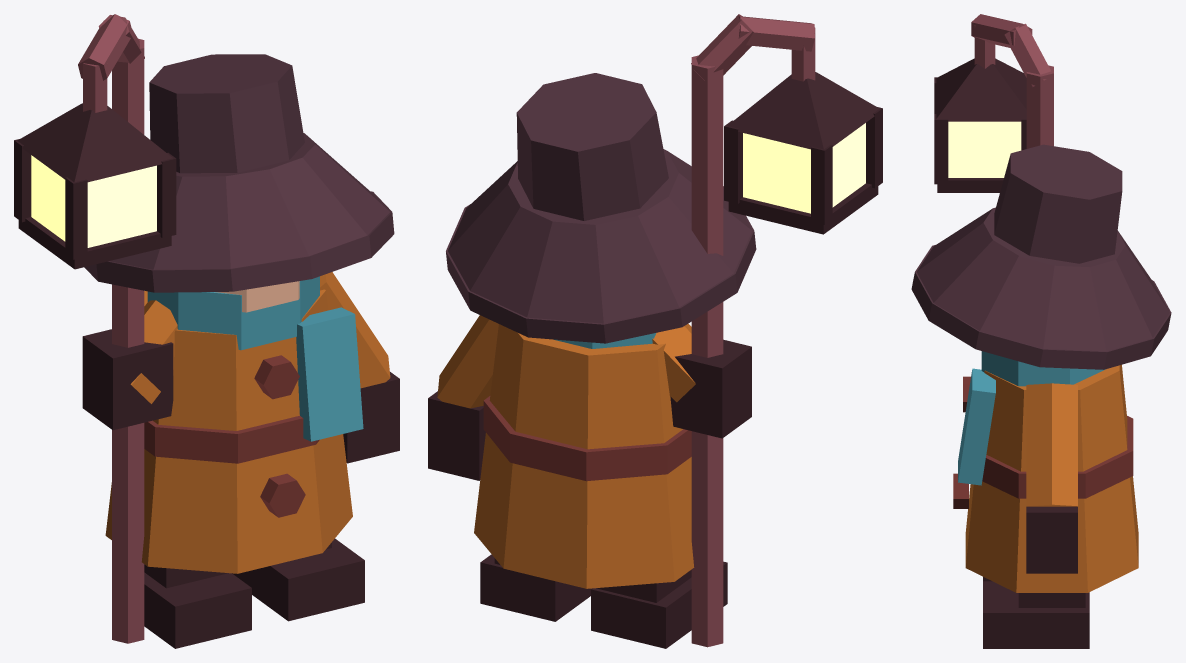
File: lamplighter.glb
The picture shows the model from 3 angles, left to right: view 1: azimuth 30°, elevation 25°; view 2: azimuth 150°, elevation 25°; view 3: azimuth 270°, elevation 25°; orthographic projection. The views are drawn at different scales.
Visible parts, largest first — view 1: Lamplighter; view 2: Lamplighter; view 3: Lamplighter.
Part boxes in pixels (box(x1,y1,x2,y2)): Lamplighter: box(14, 14, 399, 648); Lamplighter: box(428, 14, 882, 648); Lamplighter: box(911, 14, 1171, 648).
Size of the model in its own units: 0.9511 by 1.5 by 0.6572.
